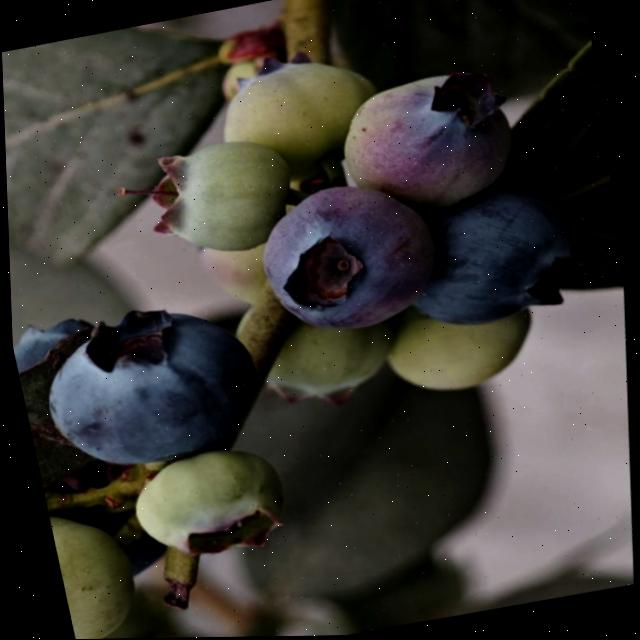RipeBlueBerry: (328, 18, 540, 224)
Semi-RipeBlueBerry: (222, 145, 468, 363)
UnripeBlueBerry: (30, 270, 289, 488), (102, 112, 313, 284), (139, 442, 302, 561), (46, 505, 154, 640)
